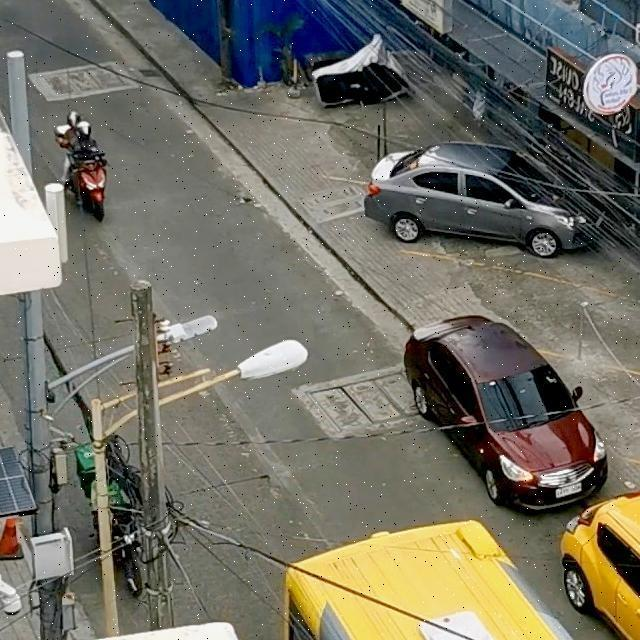Motorcycle: (38, 96, 118, 223)
